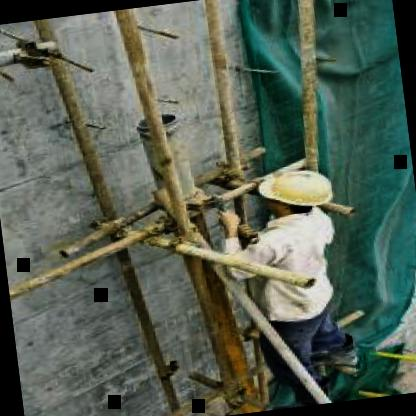helmet: (240, 155, 348, 234)
